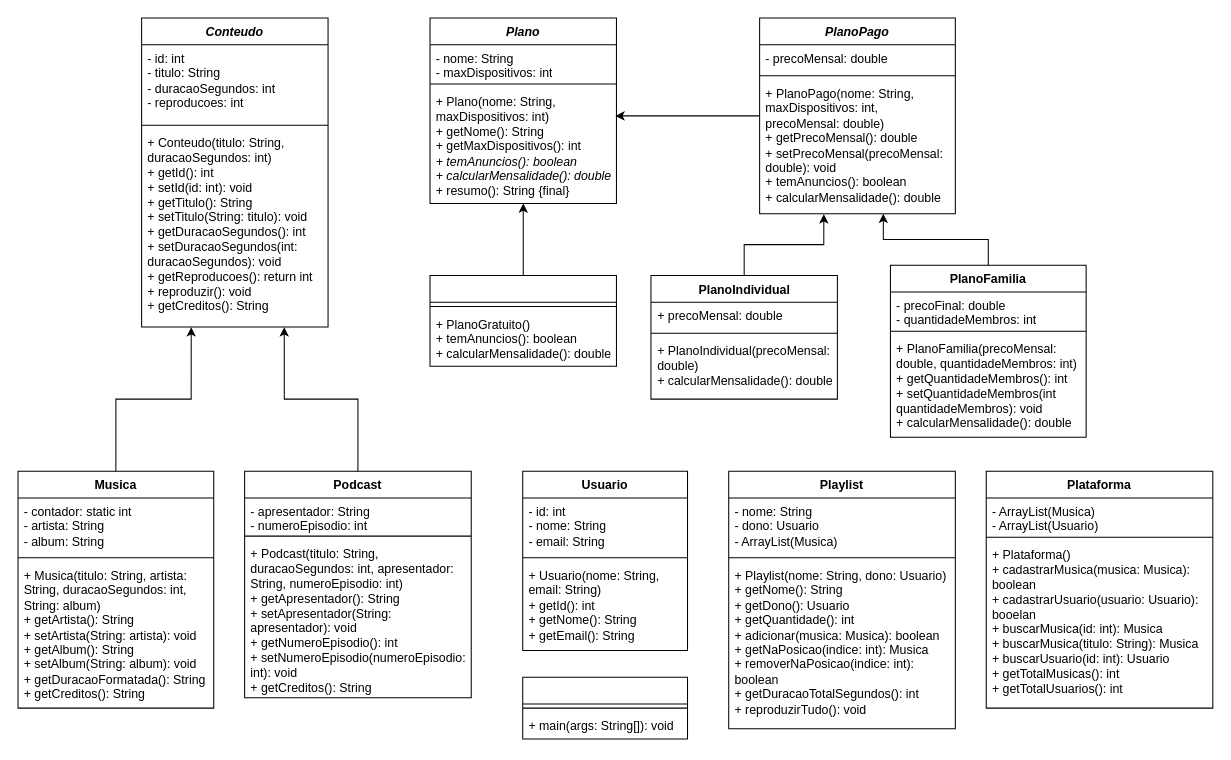
Image size: 1231x760. Some labels were removed from this diagram. The shapes that lost their labels are listed below. From the top down, each one's box as (x1, y1, x2, y2) in pixels, then its label:
(429, 274, 616, 366): PlanoGratuito {final}
(522, 676, 688, 739): App
